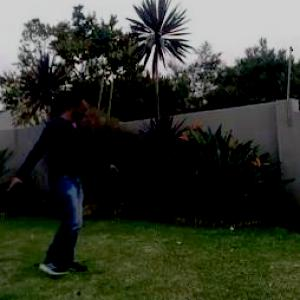land: (1, 77, 130, 295)
